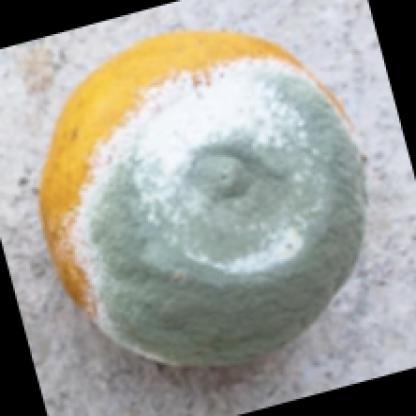rotten_orange: (27, 24, 372, 379)
